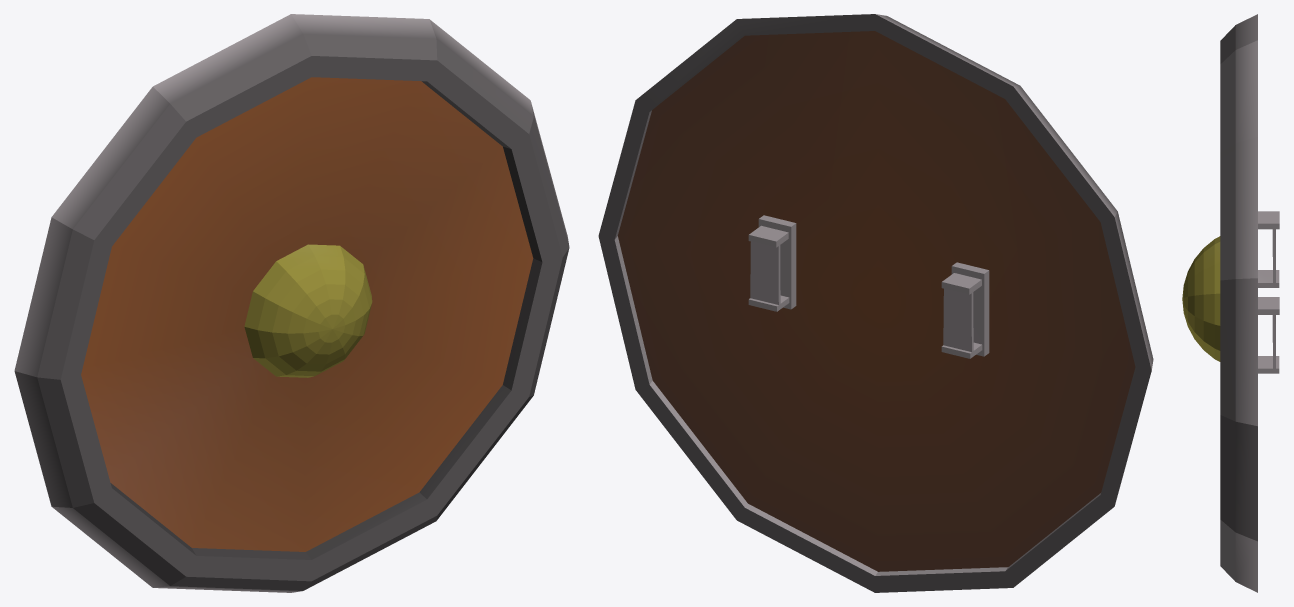
The model's file is Escudo.fbx.
3 renders of one model, left to right at view 1: azimuth 30°, elevation 25°; view 2: azimuth 150°, elevation 25°; view 3: azimuth 270°, elevation 25°, orthographic. The views are drawn at different scales.
Parts seen in each view (by area): view 1: Escudo; view 2: Escudo; view 3: Escudo.
Boxes of the visible parts, box(x1,y1,x2,y2) form: Escudo: box(14, 14, 569, 592); Escudo: box(598, 14, 1153, 592); Escudo: box(1182, 14, 1279, 592).
Bounding box in the file's own units: 1206 × 1206 × 202.
